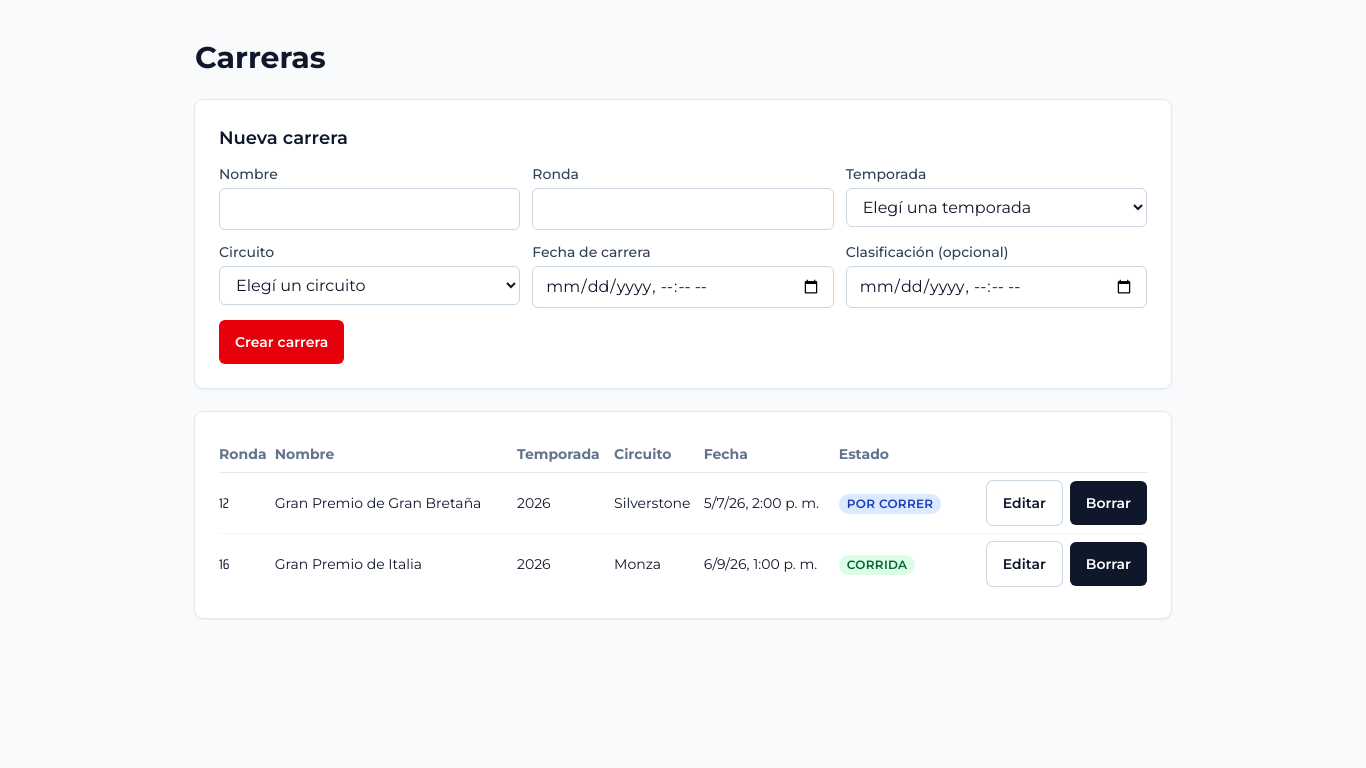
Scenario: RacesPage › borra una carrera recién después de confirmar
Click the button with aria-label "Borrar Gran Premio de Gran Bretaña".
click(1108, 503)  # box left=1070, top=481, right=1147, bottom=525
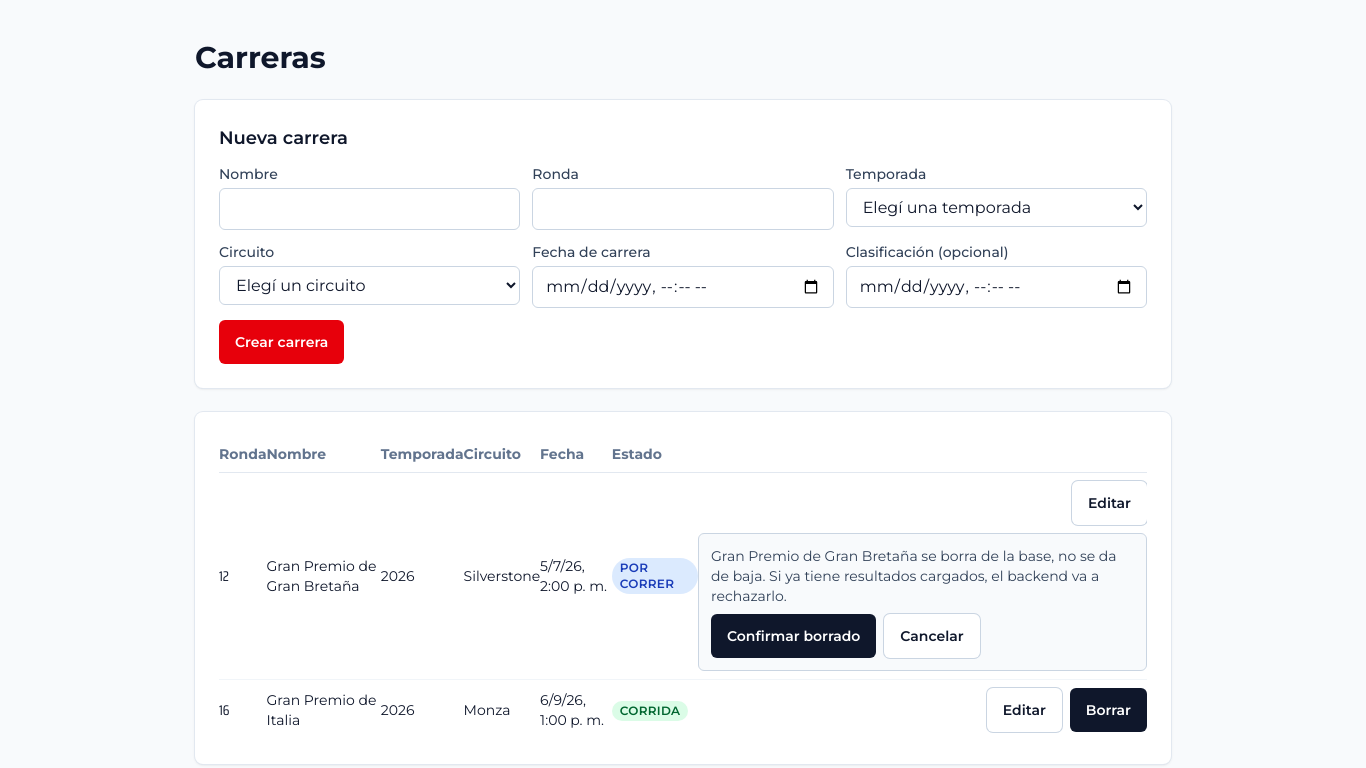
Expected: the message shows "se borra de la base", left=711, top=547, right=1117, bottom=605
Click the button "Confirmar borrado".
click(794, 636)  # box left=711, top=614, right=876, bottom=658
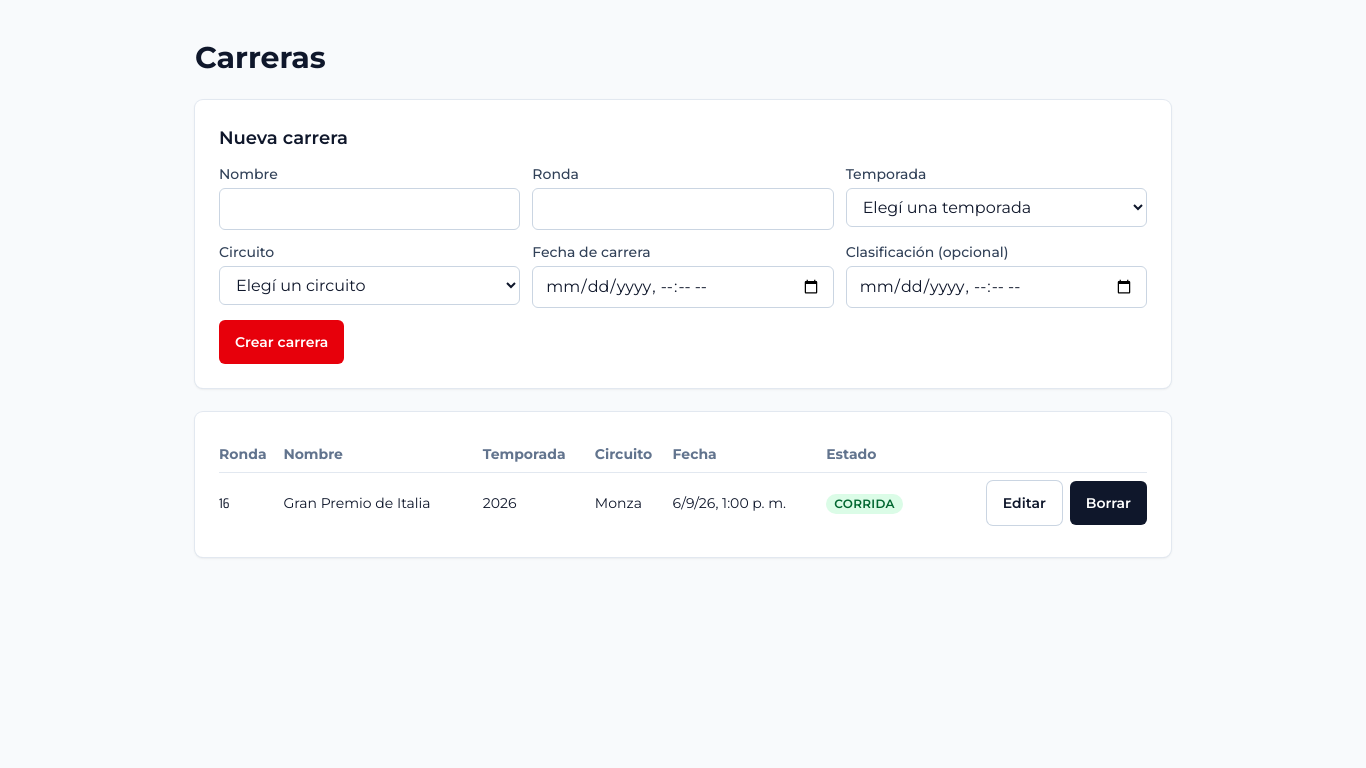
Expected: the text "Gran Premio de Gran Bretaña" is gone
